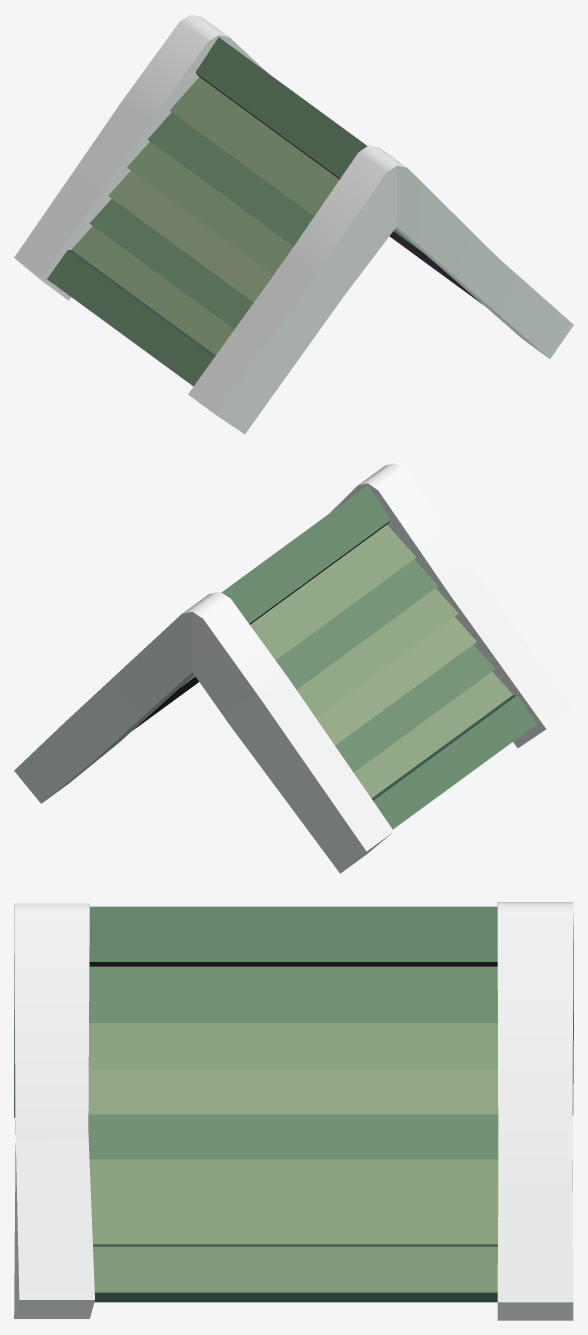
Rendered from Roof03_Green_White.glb.
The picture shows the model from 3 angles, top to bottom: view 1: azimuth 30°, elevation 25°; view 2: azimuth 150°, elevation 25°; view 3: azimuth 270°, elevation 25°; orthographic projection. The views are drawn at different scales.
Visible parts, largest first — view 1: Roof03_Green_White; view 2: Roof03_Green_White; view 3: Roof03_Green_White.
Boxes of the visible parts, box(x1,y1,x2,y2) form: Roof03_Green_White: box(14, 14, 573, 434); Roof03_Green_White: box(14, 463, 573, 873); Roof03_Green_White: box(14, 902, 573, 1320).
Bounding box in the file's own units: 2.41 × 1.48 × 2.38.
1 material, 1 textured.
